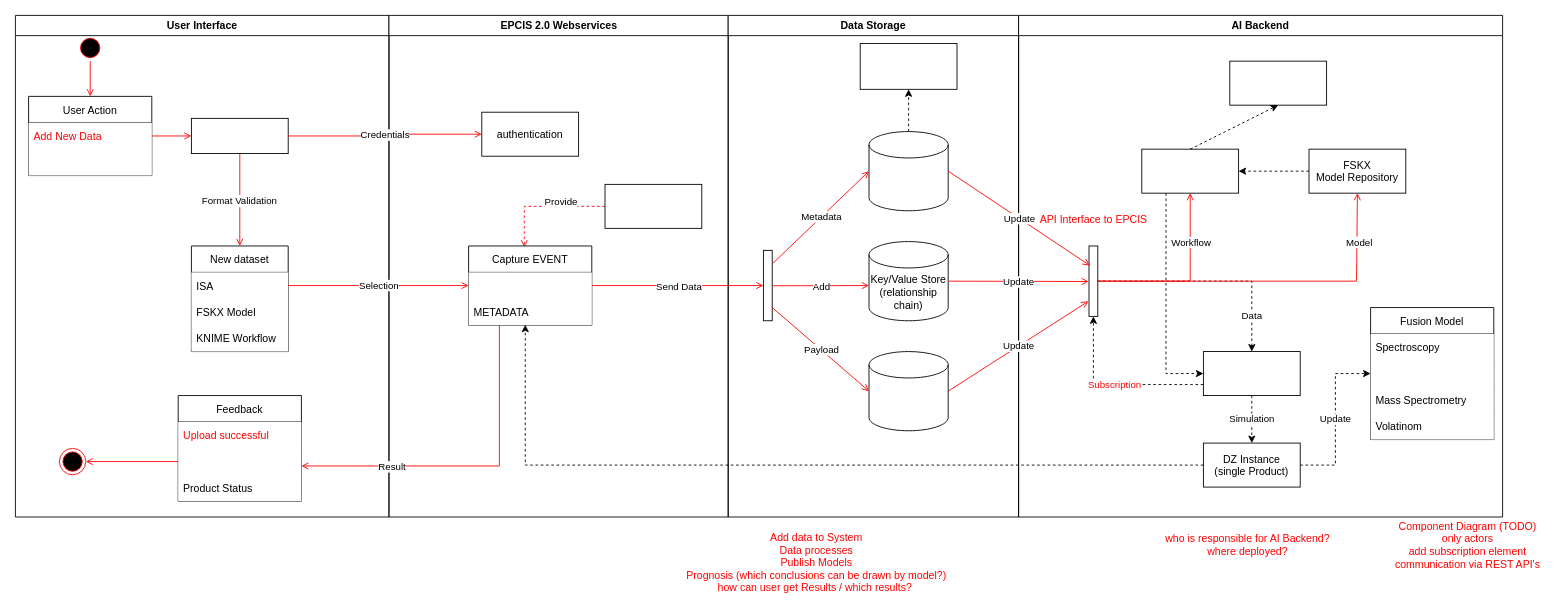
The diagram is 1562 pixels wide and 613 high, and some of its shapes have lost their labels. The shapes that lost their labels are listed below. From the top down, each one's centre as x and y in pixels, then its label:
At pixel 908 66: "Event Repository".
At pixel 1278 82: "Execution Engine (e.g. KNIME)".
At pixel 239 135: "File Upload".
At pixel 89 162: "Query (Product Status)".
At pixel 908 171: "Elastic Search DB (metadata)".
At pixel 1190 170: "KNIME Workflows".
At pixel 653 205: "JSON Schema Masterdata".
At pixel 529 285: "UUID".
At pixel 908 391: "S3 Bucket (big data)".
At pixel 1251 373: "Digital Twin (DZ) Runtime".
At pixel 1431 373: "NGS".
At pixel 239 461: "Query Result".
